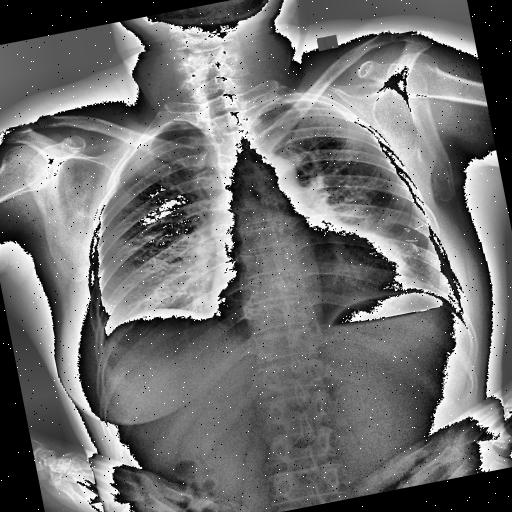3- Cardiomegaly: (202, 214, 412, 326), (204, 229, 432, 328), (200, 236, 414, 330)
